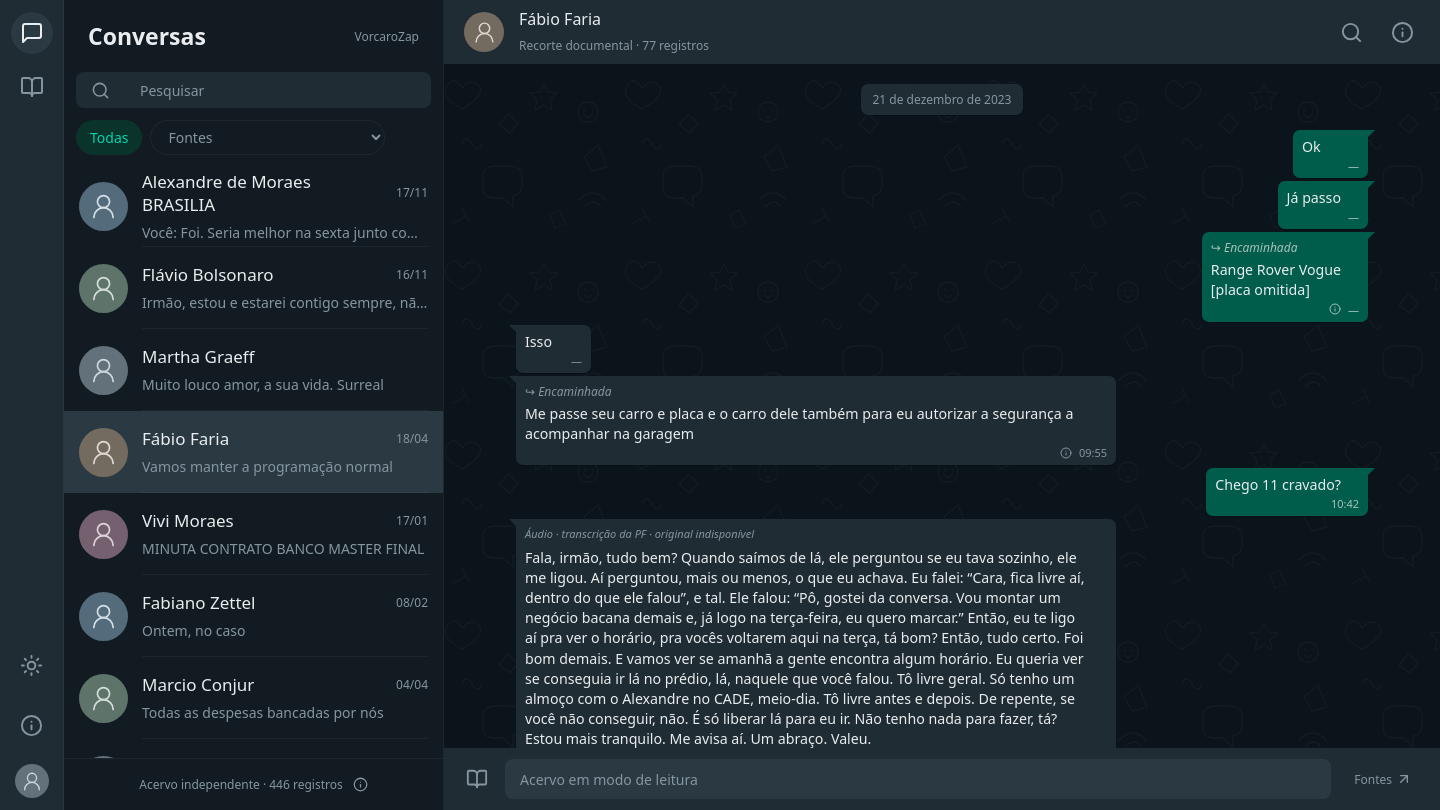
Scenario: consulta e auditoria › explica fonte sem mensagens e limpa filtros
Select "Decisão · Petição 15.556/DF" in the dropdown named "Filtrar por fonte" at (268, 138), box [150,120,386,155]
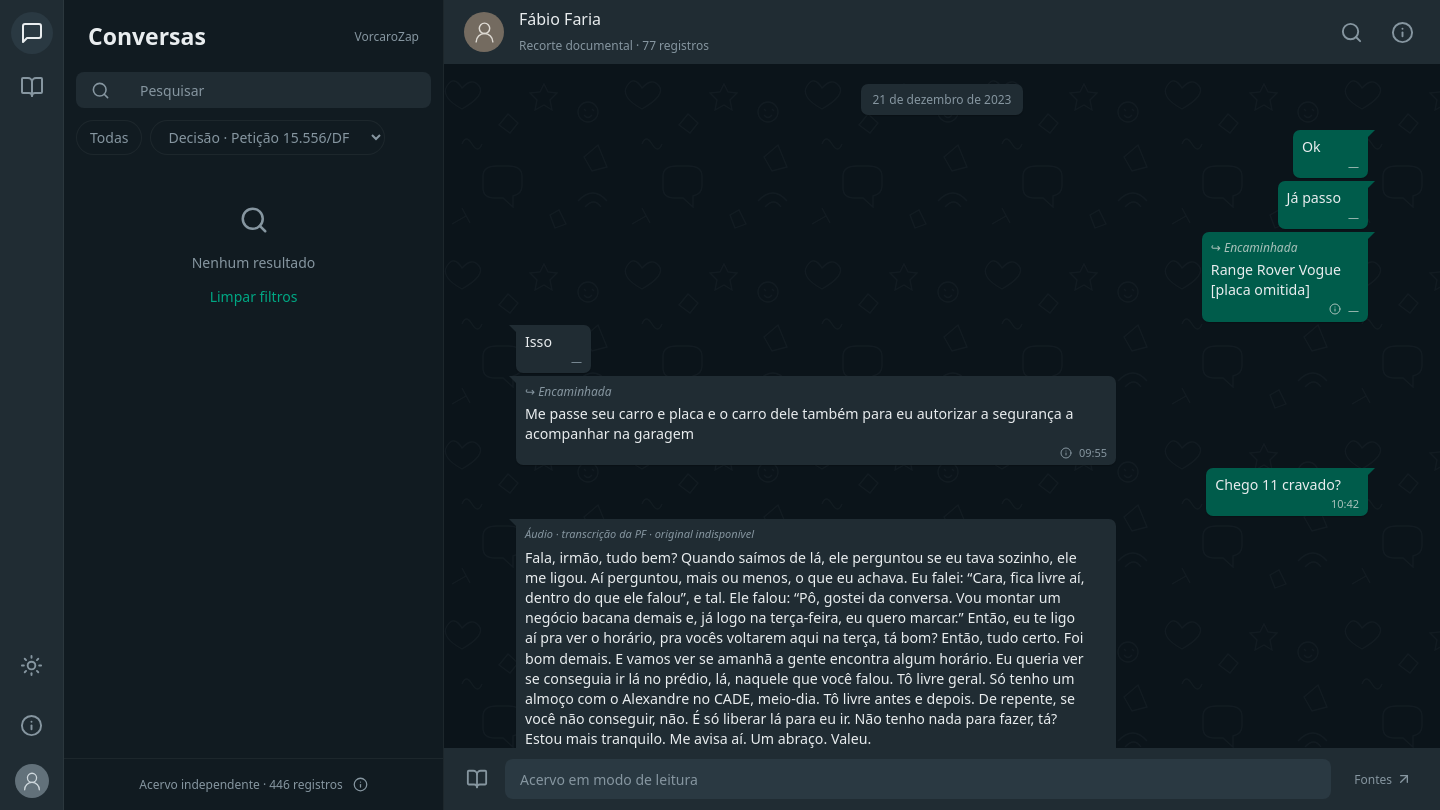
expect the text "Nenhum resultado" is shown: met, box [192,253,315,272]
Click the button "Limpar filtros" at (253, 296), box [204,286,303,307]
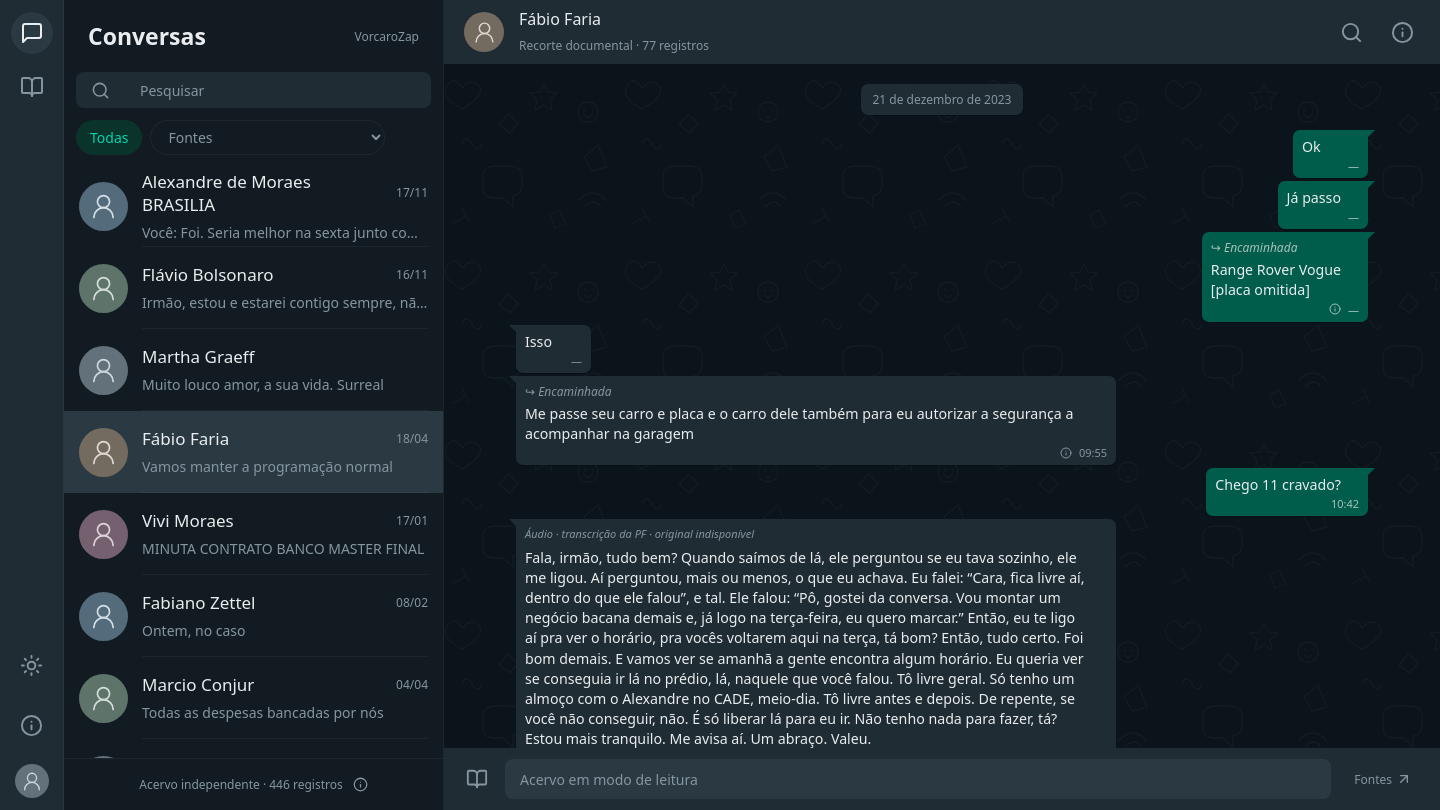
expect the button "Fábio Faria 18/04 Vamos manter a programação normal" is shown: met, box [64,411,443,493]
